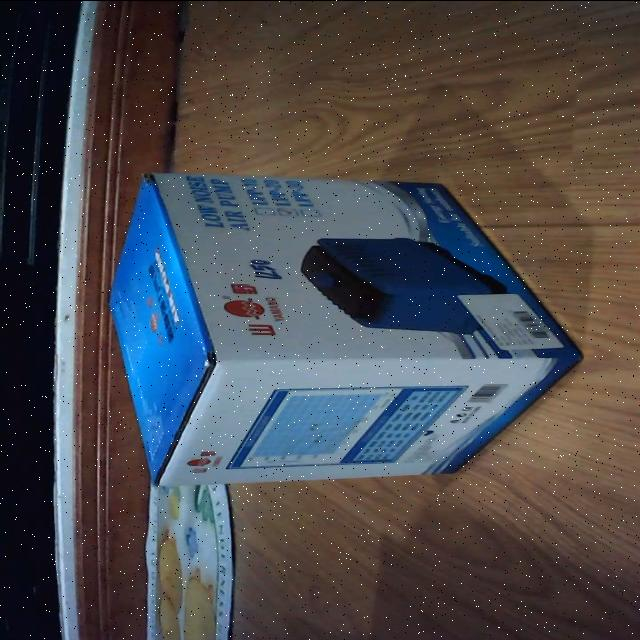YAMANO_LPP_20: (86, 158, 592, 496)
